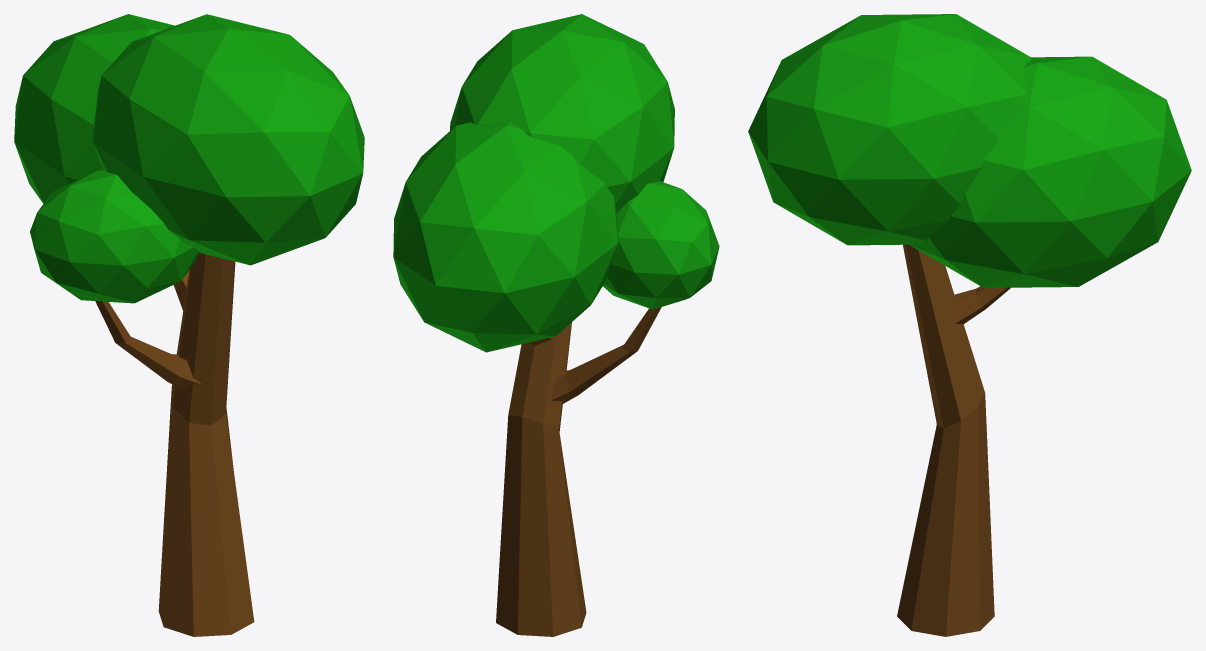
Rendered from Tree2.fbx.
3 renders of one model, left to right at view 1: azimuth 30°, elevation 25°; view 2: azimuth 150°, elevation 25°; view 3: azimuth 270°, elevation 25°, orthographic. The views are drawn at different scales.
Visible parts, largest first — view 1: tree; view 2: tree; view 3: tree.
Part boxes in pixels (x1,y1,x2,y2): tree: (14,14,364,636); tree: (393,14,719,636); tree: (748,14,1191,636).
Bounding box in the file's own units: 653 × 1346 × 908.
